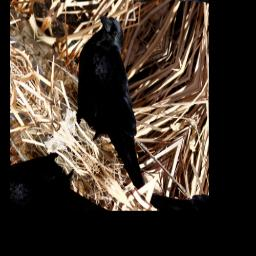Crow: (46, 6, 198, 194)
